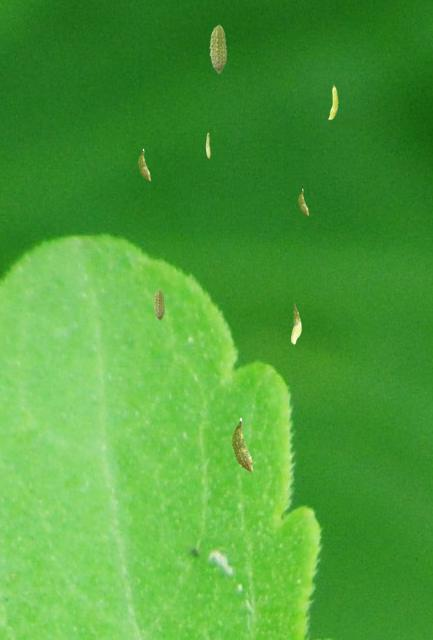ampalaya: (231, 417, 253, 472), (209, 24, 227, 74), (290, 302, 301, 345), (137, 148, 151, 181), (153, 288, 165, 321), (328, 84, 338, 120), (297, 188, 309, 216), (205, 132, 211, 158)
